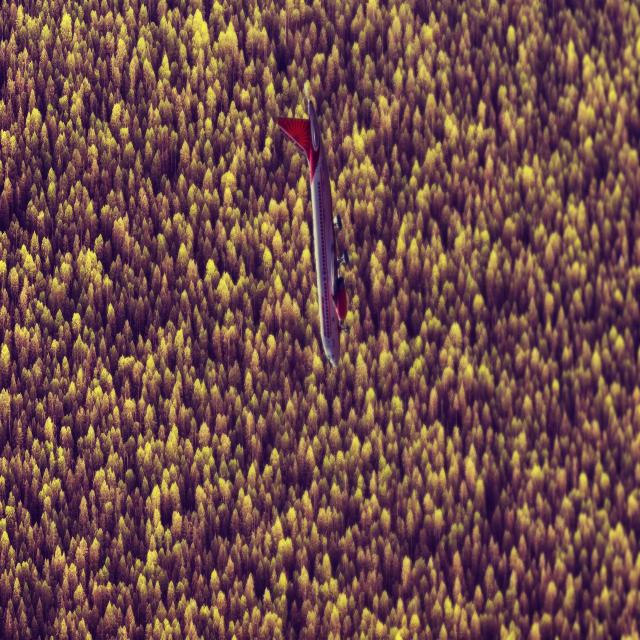airplane: (276, 98, 350, 369)
